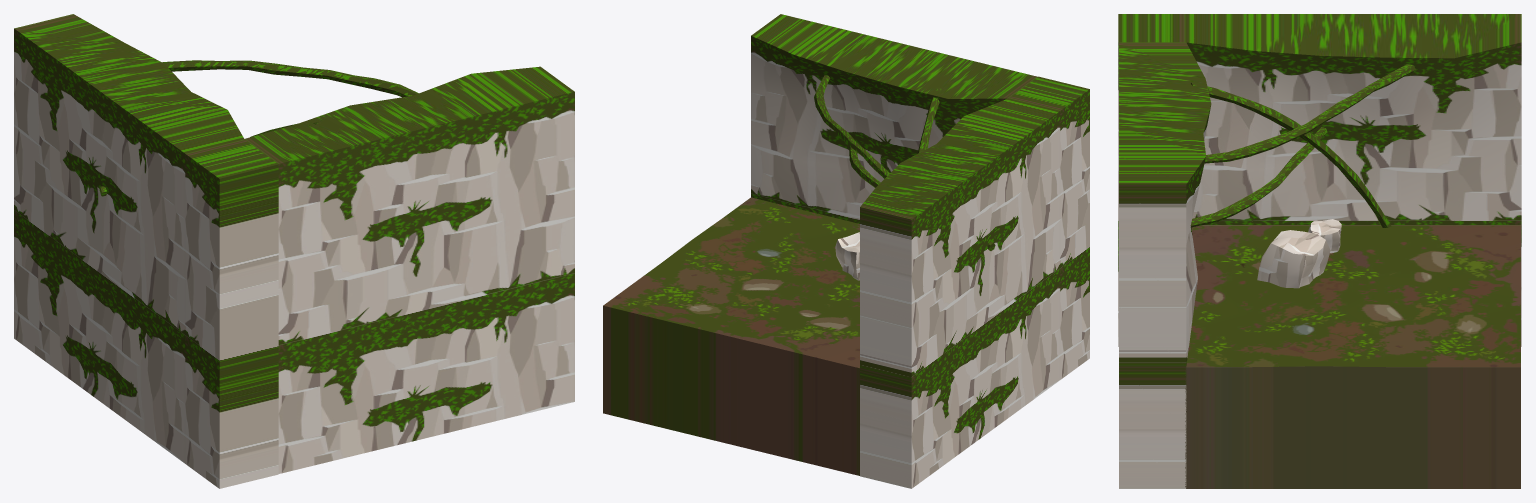
File: CaseCoin.fbx
3 views of the same model, side by side, from view 1: azimuth 30°, elevation 25°; view 2: azimuth 150°, elevation 25°; view 3: azimuth 270°, elevation 25° (orthographic). The views are drawn at different scales.
Visible parts, largest first — view 1: Box011, Box010, Line008; view 2: Box010, Box009, Box011, Line008, Box013; view 3: Box009, Box010, Box011, Box013, Line008, Line006, Line007, Box012.
Part boxes in pixels (x1,y1,x2,y2): Box011: [245, 66, 574, 473]; Box010: [14, 14, 278, 488]; Line008: [162, 60, 418, 97]; Box010: [860, 76, 1089, 488]; Box009: [603, 197, 859, 475]; Box011: [751, 14, 1037, 223]; Line008: [814, 75, 889, 178]; Box013: [835, 232, 859, 280]; Box009: [1185, 225, 1520, 488]; Box010: [1118, 14, 1521, 346]; Box011: [1119, 42, 1211, 488]; Box013: [1257, 230, 1330, 288]; Line008: [1204, 64, 1415, 163]; Line006: [1191, 82, 1391, 227]; Line007: [1191, 127, 1327, 227]; Box012: [1308, 219, 1341, 253].
Size of the model in its own units: 239 by 197 by 236.
3 materials, 3 textured.
